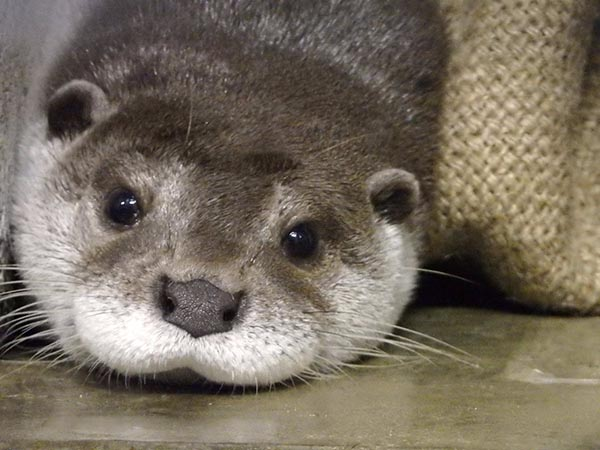otter: (11, 1, 470, 397)
